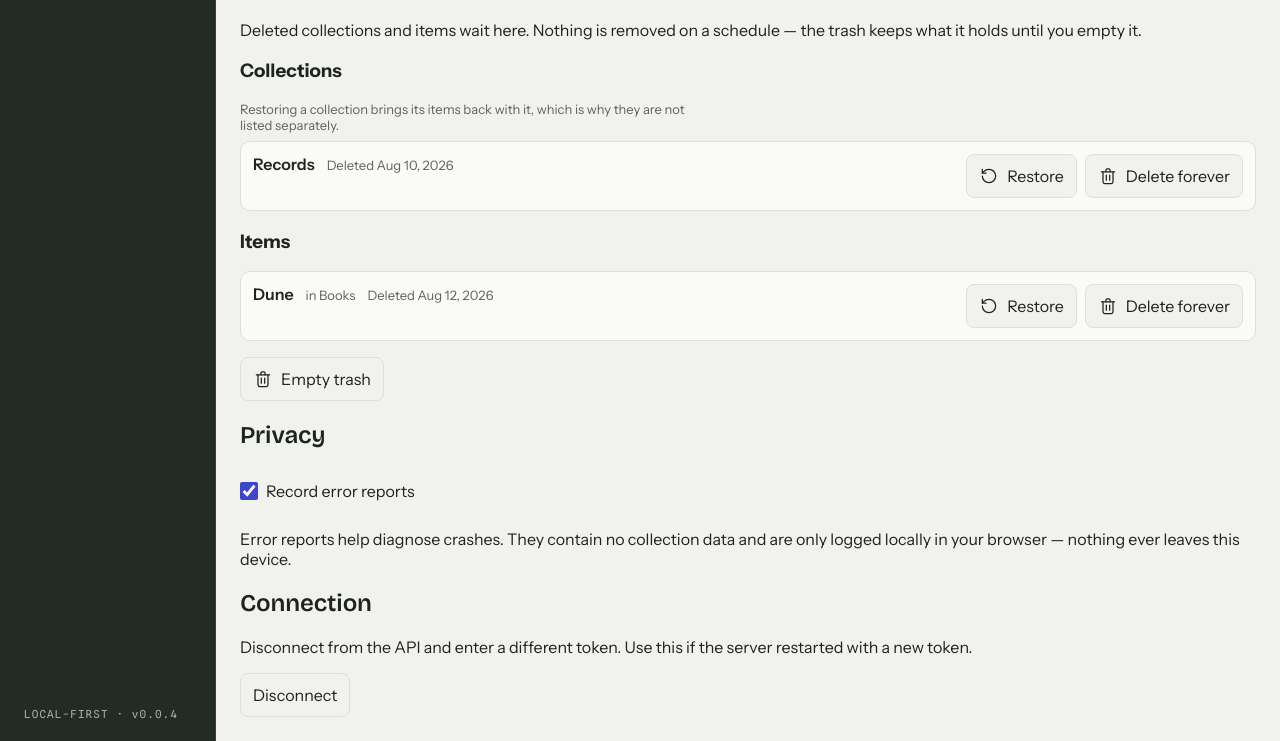
Test: Settings empty trash › empties on confirmation and says what it removed
(page scrolled)
Click the button "Empty trash": click(312, 379) [240, 357, 384, 401]
(page scrolled)
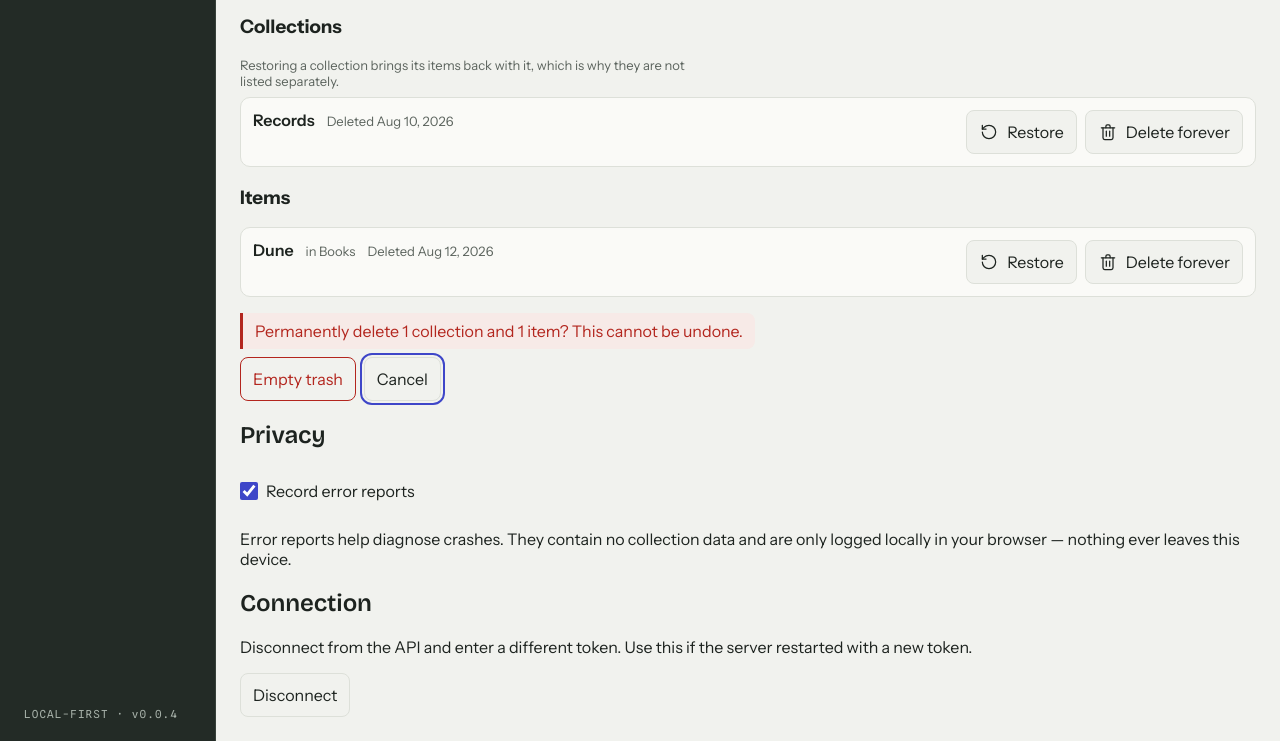
Click the button "Empty trash": click(298, 379) [240, 357, 356, 401]
(page scrolled)
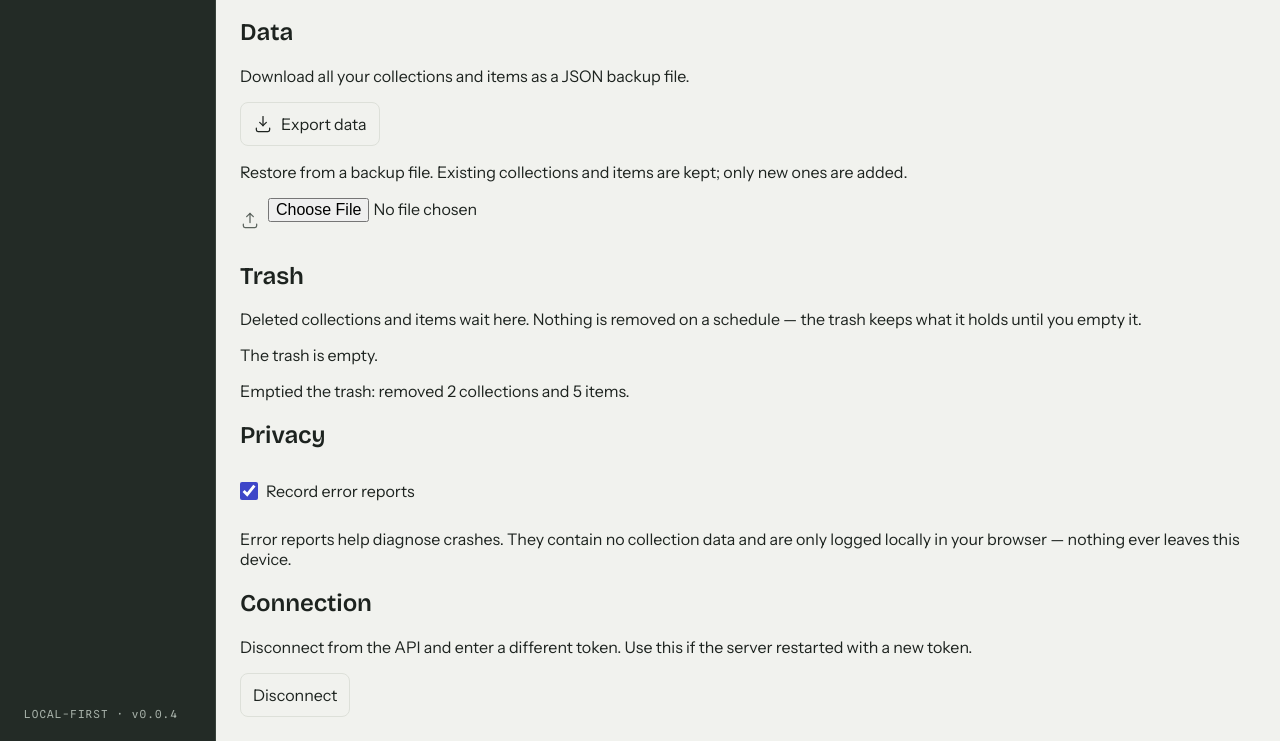
Check: the number of elements with class "trash-live" is 1, box [240, 381, 630, 401]
Check: the element with class "trash-live" reads "Emptied the trash: removed 2 collections and 5 items.", box [240, 381, 630, 401]
